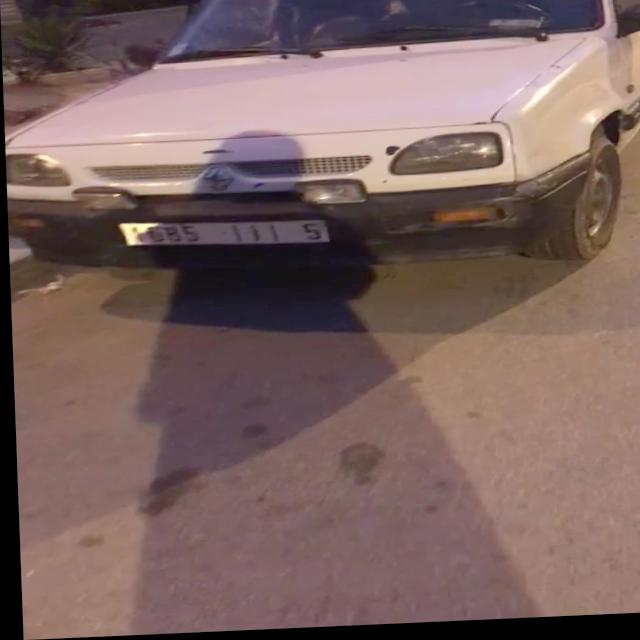License-Plate: (117, 223, 328, 247)
